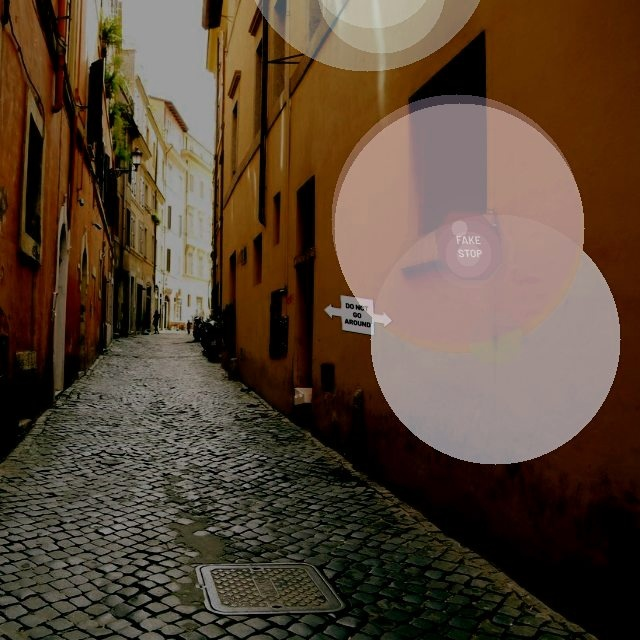DO_NOT_GO_AROUND: (323, 294, 393, 336)
FAKE_STOP: (434, 210, 502, 280)
